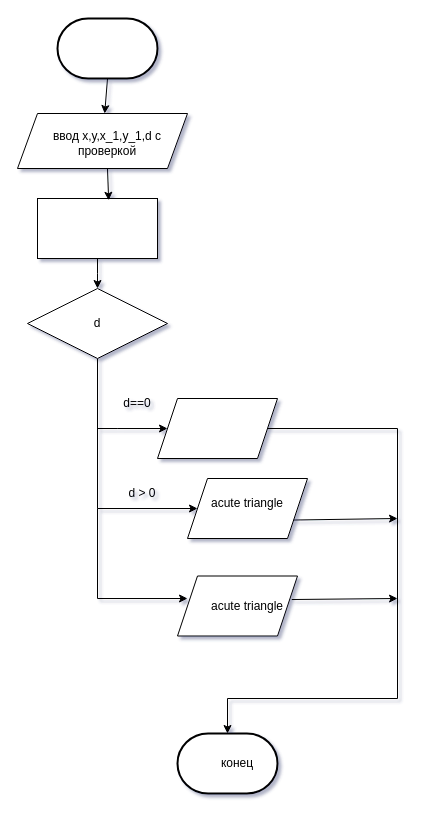
This 429x817 diagram has some shape labels left out. The shapes that lost their labels are listed below. From the top down, each one's centre as x and y in pixels, then its label:
point (107, 48): начало
point (97, 228): d = x * x_1 + y * y_1
point (217, 428): right triangle
